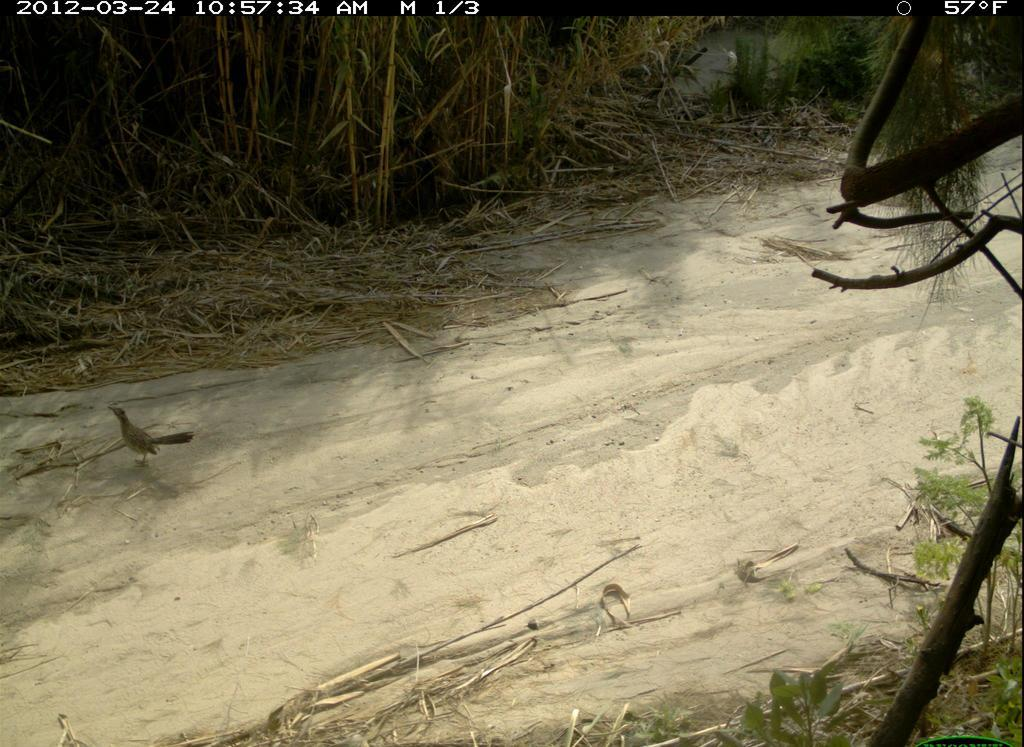bird: (103, 387, 210, 484)
